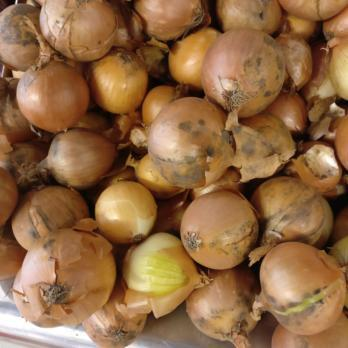Onion: (2, 0, 348, 345)
